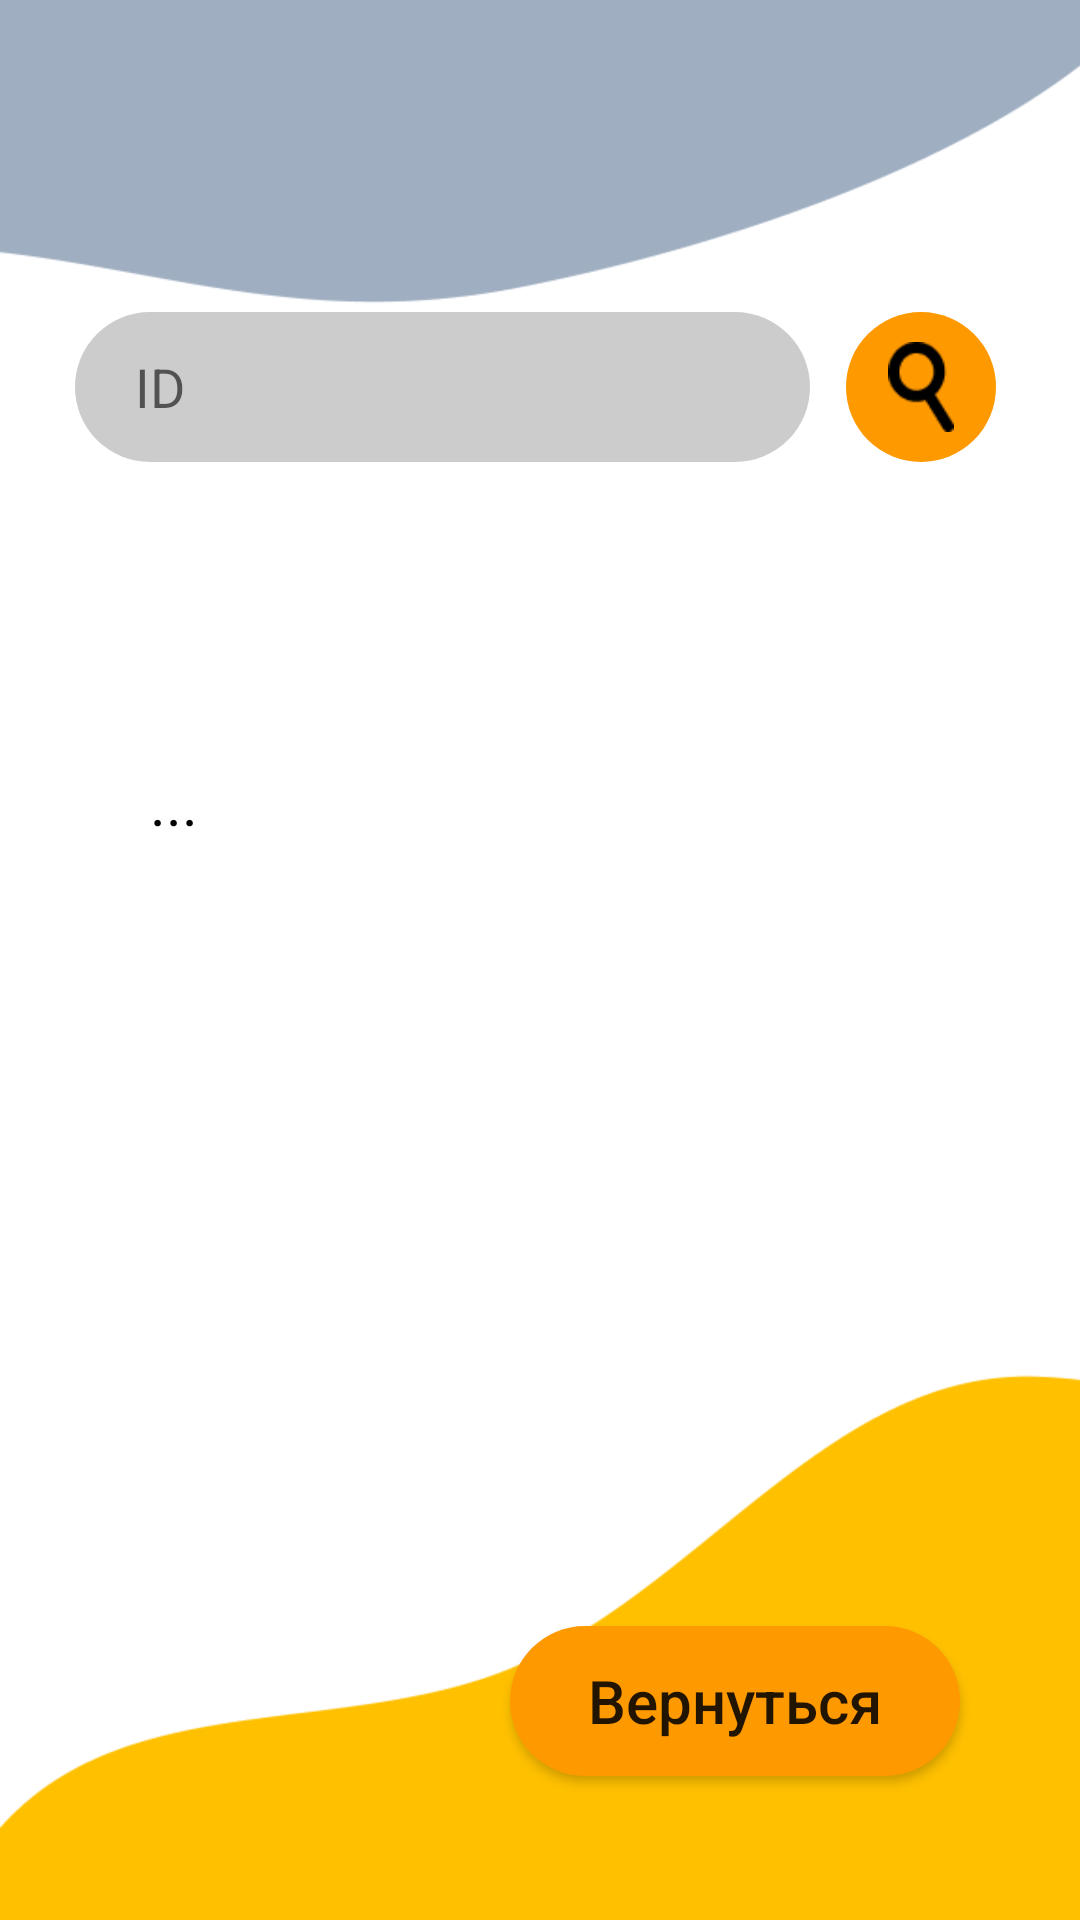

Icon click points for this 1080x1920 phone screenshot, format (x=x, y=y):
search: (x=921, y=387)
